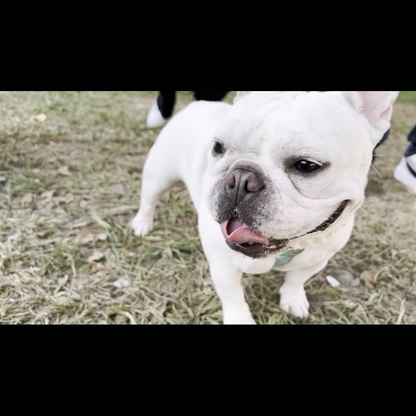bulldog: (126, 92, 401, 323)
